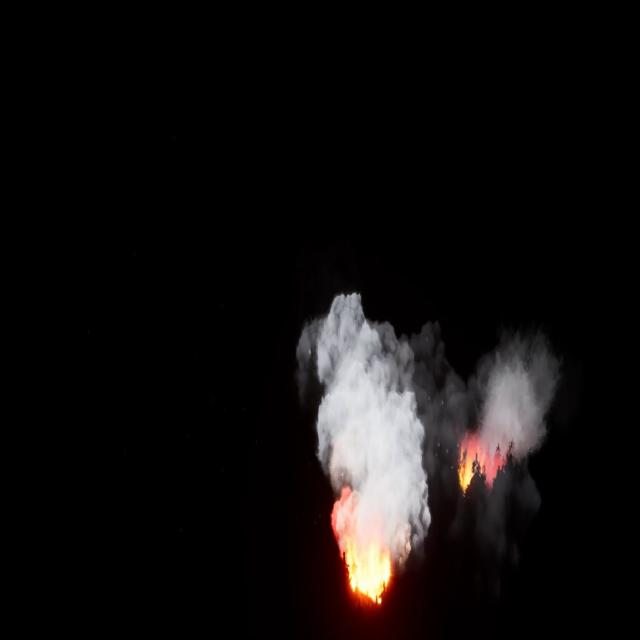fire: (455, 428, 518, 492), (339, 536, 392, 599)
smoke: (295, 297, 566, 550)
